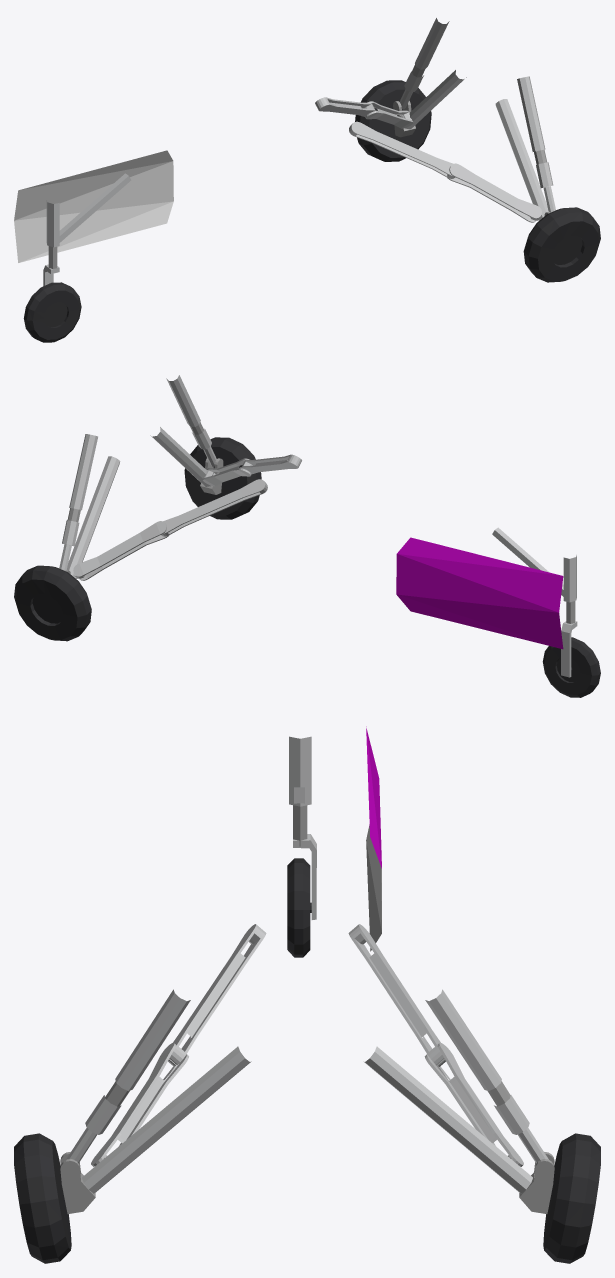
File: f16.gear.glb
3 renders of one model, top to bottom at view 1: azimuth 30°, elevation 25°; view 2: azimuth 150°, elevation 25°; view 3: azimuth 270°, elevation 25°, orthographic. The views are drawn at different scales.
Parts seen in each view (by area): view 1: gear; view 2: gear; view 3: gear.
Part boxes in pixels (x1=…): gear: x1=14, y1=18, x2=600, y2=342; gear: x1=14, y1=375, x2=600, y2=697; gear: x1=14, y1=726, x2=600, y2=1263.
Size of the model in its own units: 4.12 by 1.5 by 2.72.
